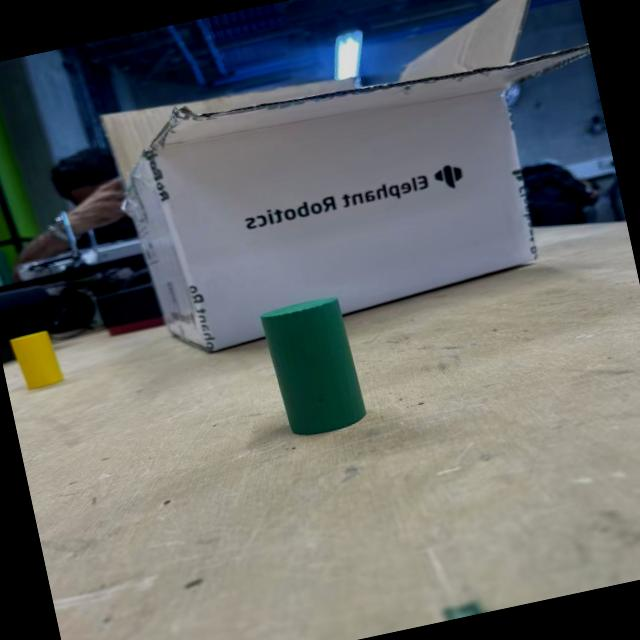green_cylinder: (254, 292, 368, 442)
